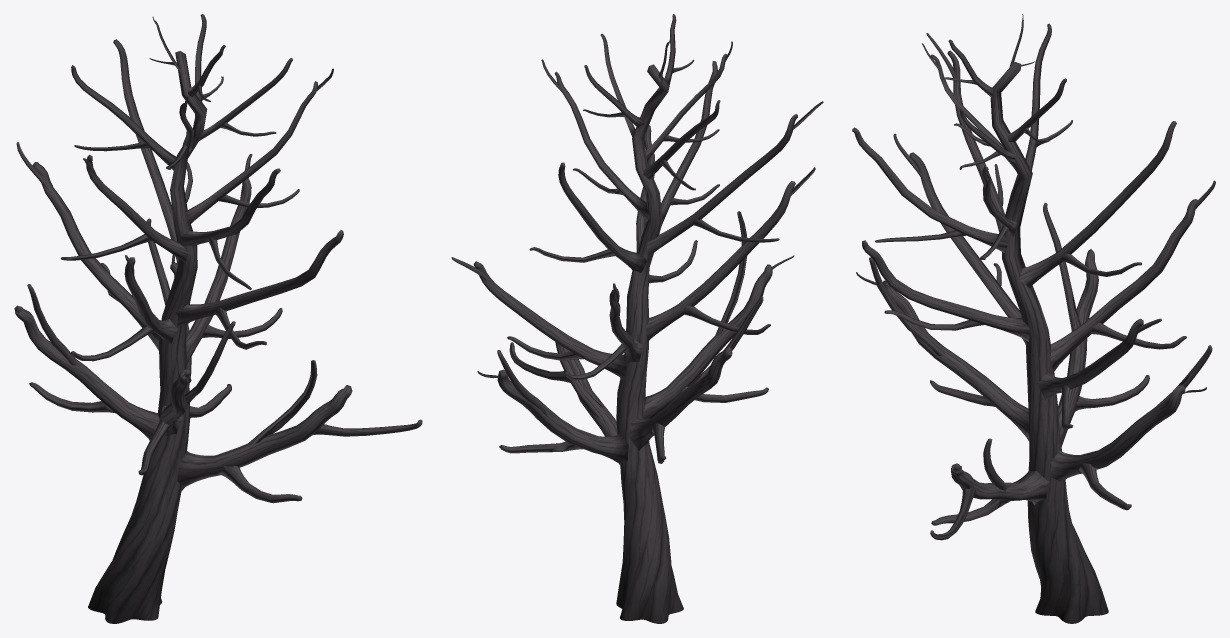
The model's file is n_dead_tree2.glb.
The picture shows the model from 3 angles, left to right: view 1: azimuth 30°, elevation 25°; view 2: azimuth 150°, elevation 25°; view 3: azimuth 270°, elevation 25°; orthographic projection. The views are drawn at different scales.
Visible parts, largest first — view 1: DeadTree_2; view 2: DeadTree_2; view 3: DeadTree_2.
Boxes of the visible parts, x1,y1,x2,y2 form: DeadTree_2: (14,14,422,623); DeadTree_2: (451,14,823,623); DeadTree_2: (852,14,1215,623).
Size of the model in its own units: 6.73 by 11.49 by 6.38.
Materials: 1 (1 with a texture image).
